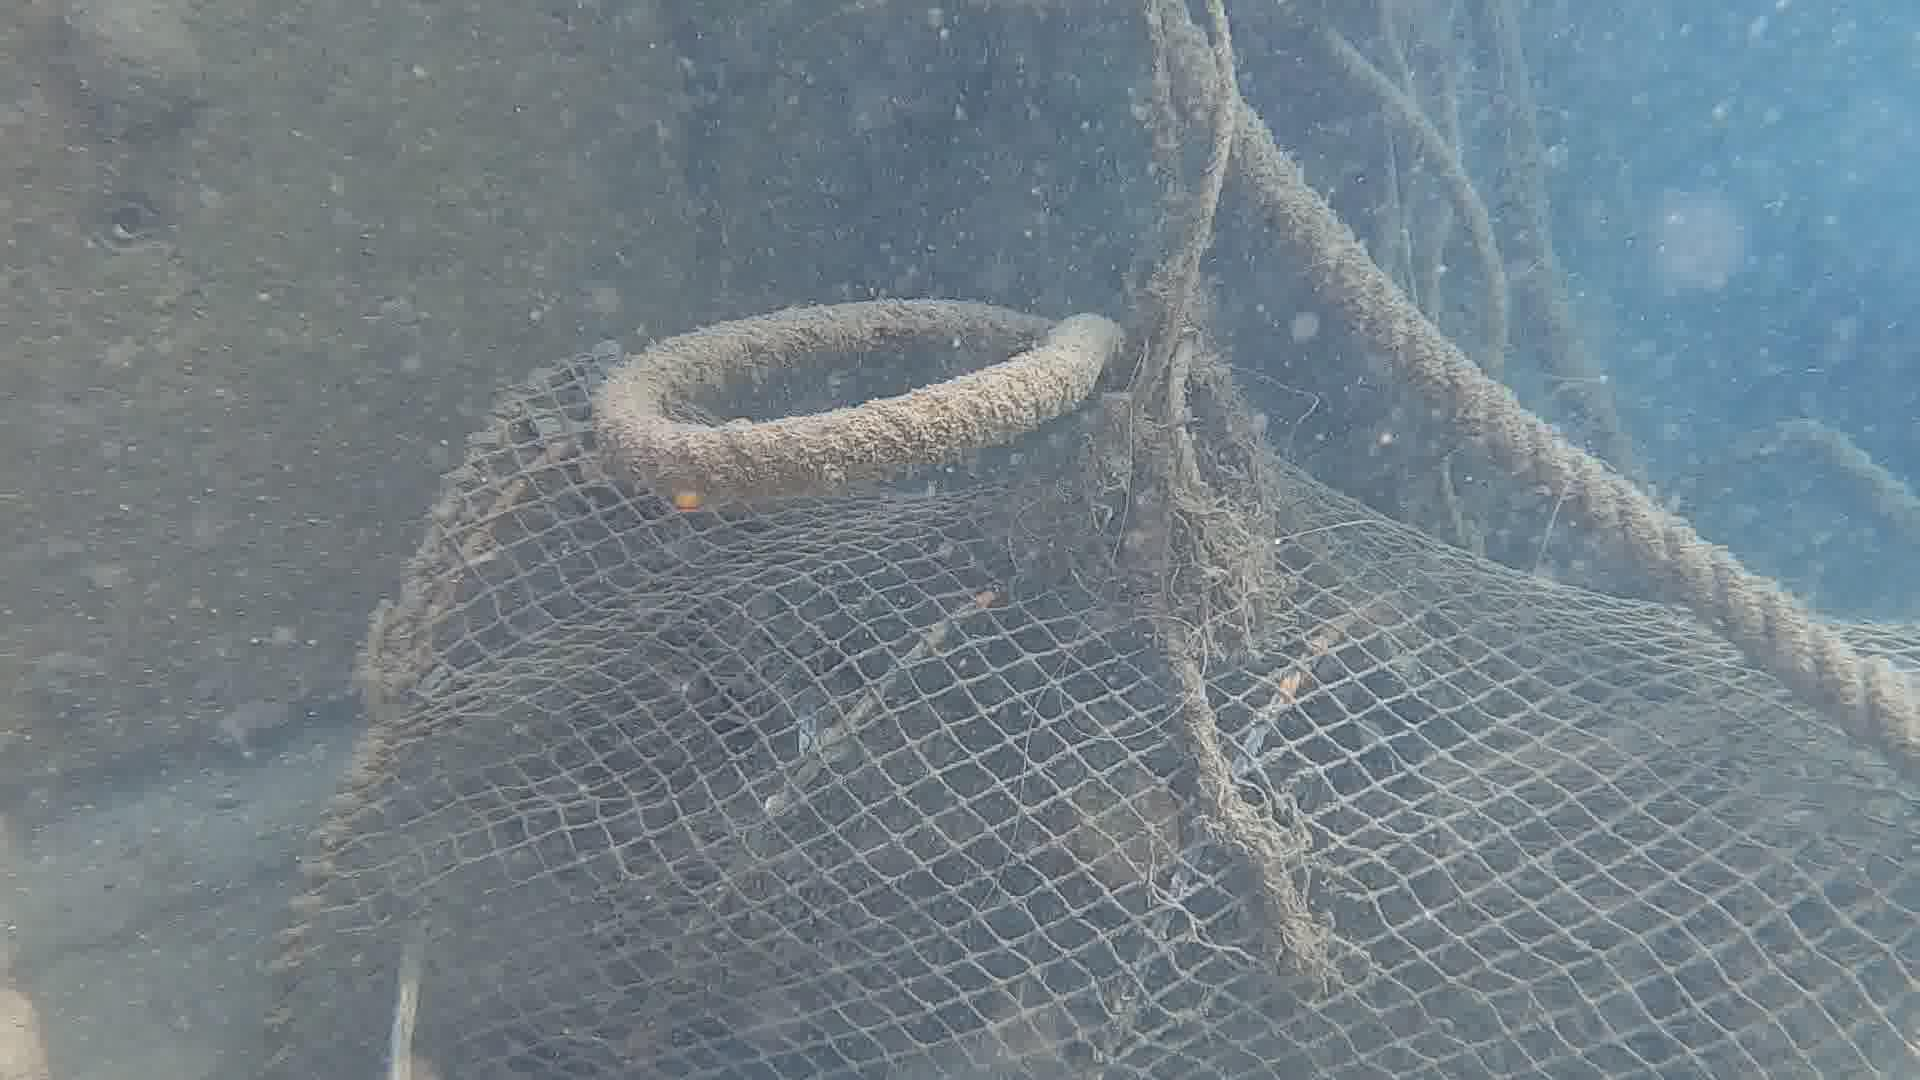bundle of ropes: (1242, 0, 1920, 775)
rope: (587, 301, 1126, 481), (1168, 0, 1240, 487)
spring fish trap: (262, 330, 1920, 1080)
